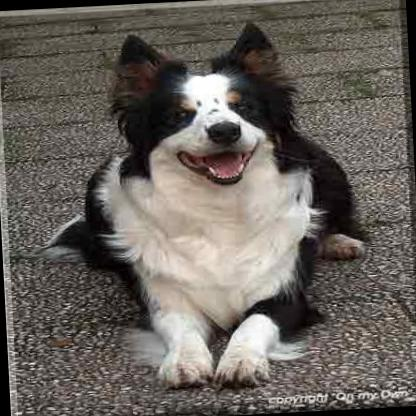Border_collie: (17, 13, 373, 395)
